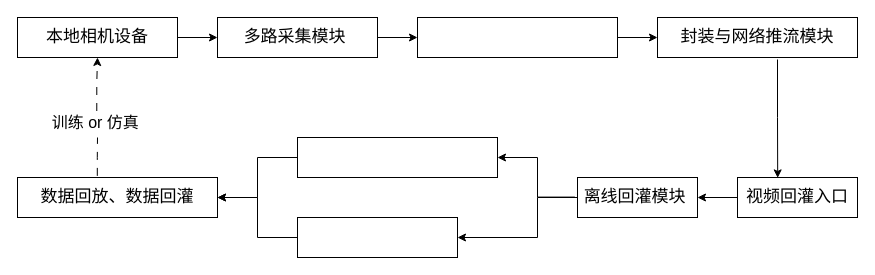
This 875x275 diagram has some shape labels left out. Each missing label, with the box of its shape:
GPU H.265编码模块: (416, 16, 618, 58)
ROS桥接模块: (296, 216, 458, 258)
虚拟摄像头映射模块: (296, 136, 498, 178)
